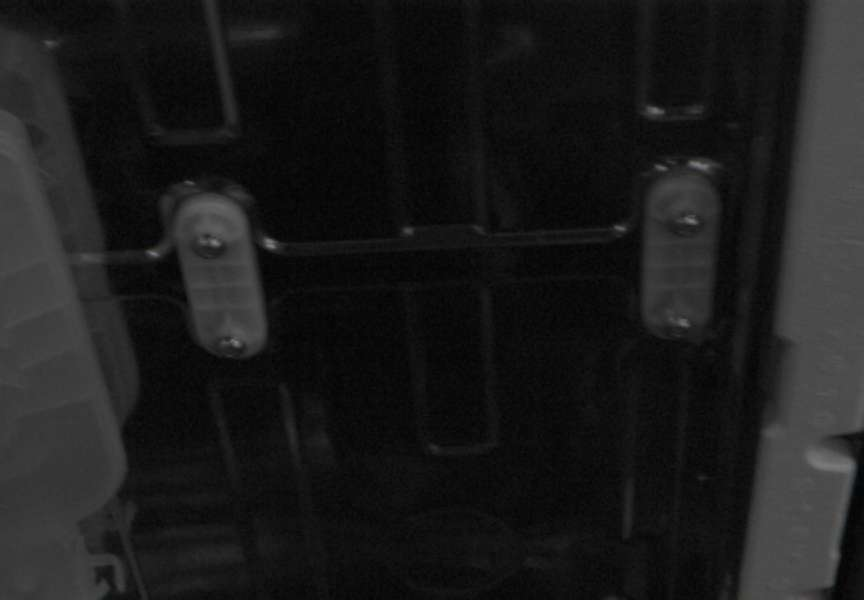screw: (668, 212, 705, 237), (192, 233, 227, 259), (664, 313, 693, 339), (214, 336, 246, 359)
